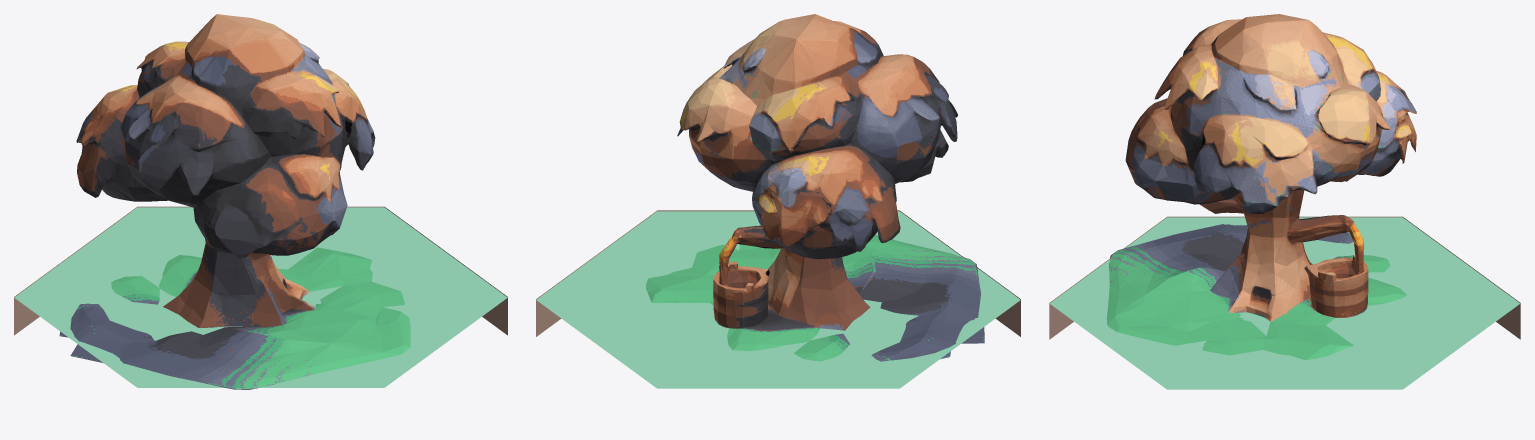
Rendered from syrup-tree.glb.
The picture shows the model from 3 angles, left to right: view 1: azimuth 30°, elevation 25°; view 2: azimuth 150°, elevation 25°; view 3: azimuth 270°, elevation 25°; orthographic projection. The views are drawn at different scales.
Parts seen in each view (by area): view 1: world, hexBase; view 2: world, hexBase; view 3: world, hexBase.
Part boxes in pixels (box(x1,y1,x2,y2)): world: box(59, 14, 410, 389); hexBase: box(14, 206, 507, 387); world: box(646, 14, 984, 361); hexBase: box(536, 210, 1020, 388); world: box(1106, 14, 1416, 360); hexBase: box(1049, 216, 1520, 389).
Size of the model in its own units: 1.04 by 0.8284 by 1.15.
Materials: 3 (1 with a texture image).
